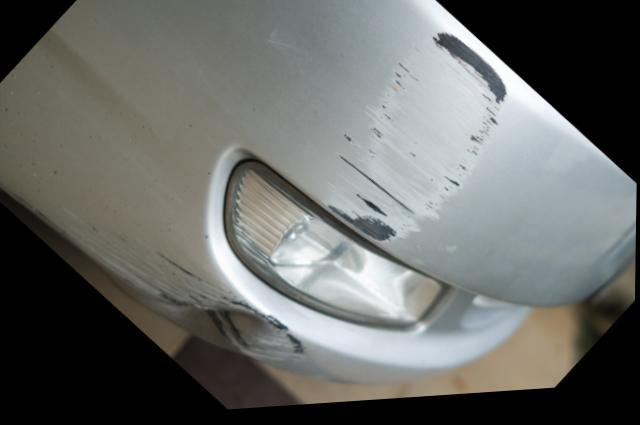dent: (172, 306, 276, 359)
scratch: (330, 33, 514, 250), (36, 192, 261, 318), (263, 321, 308, 369)
